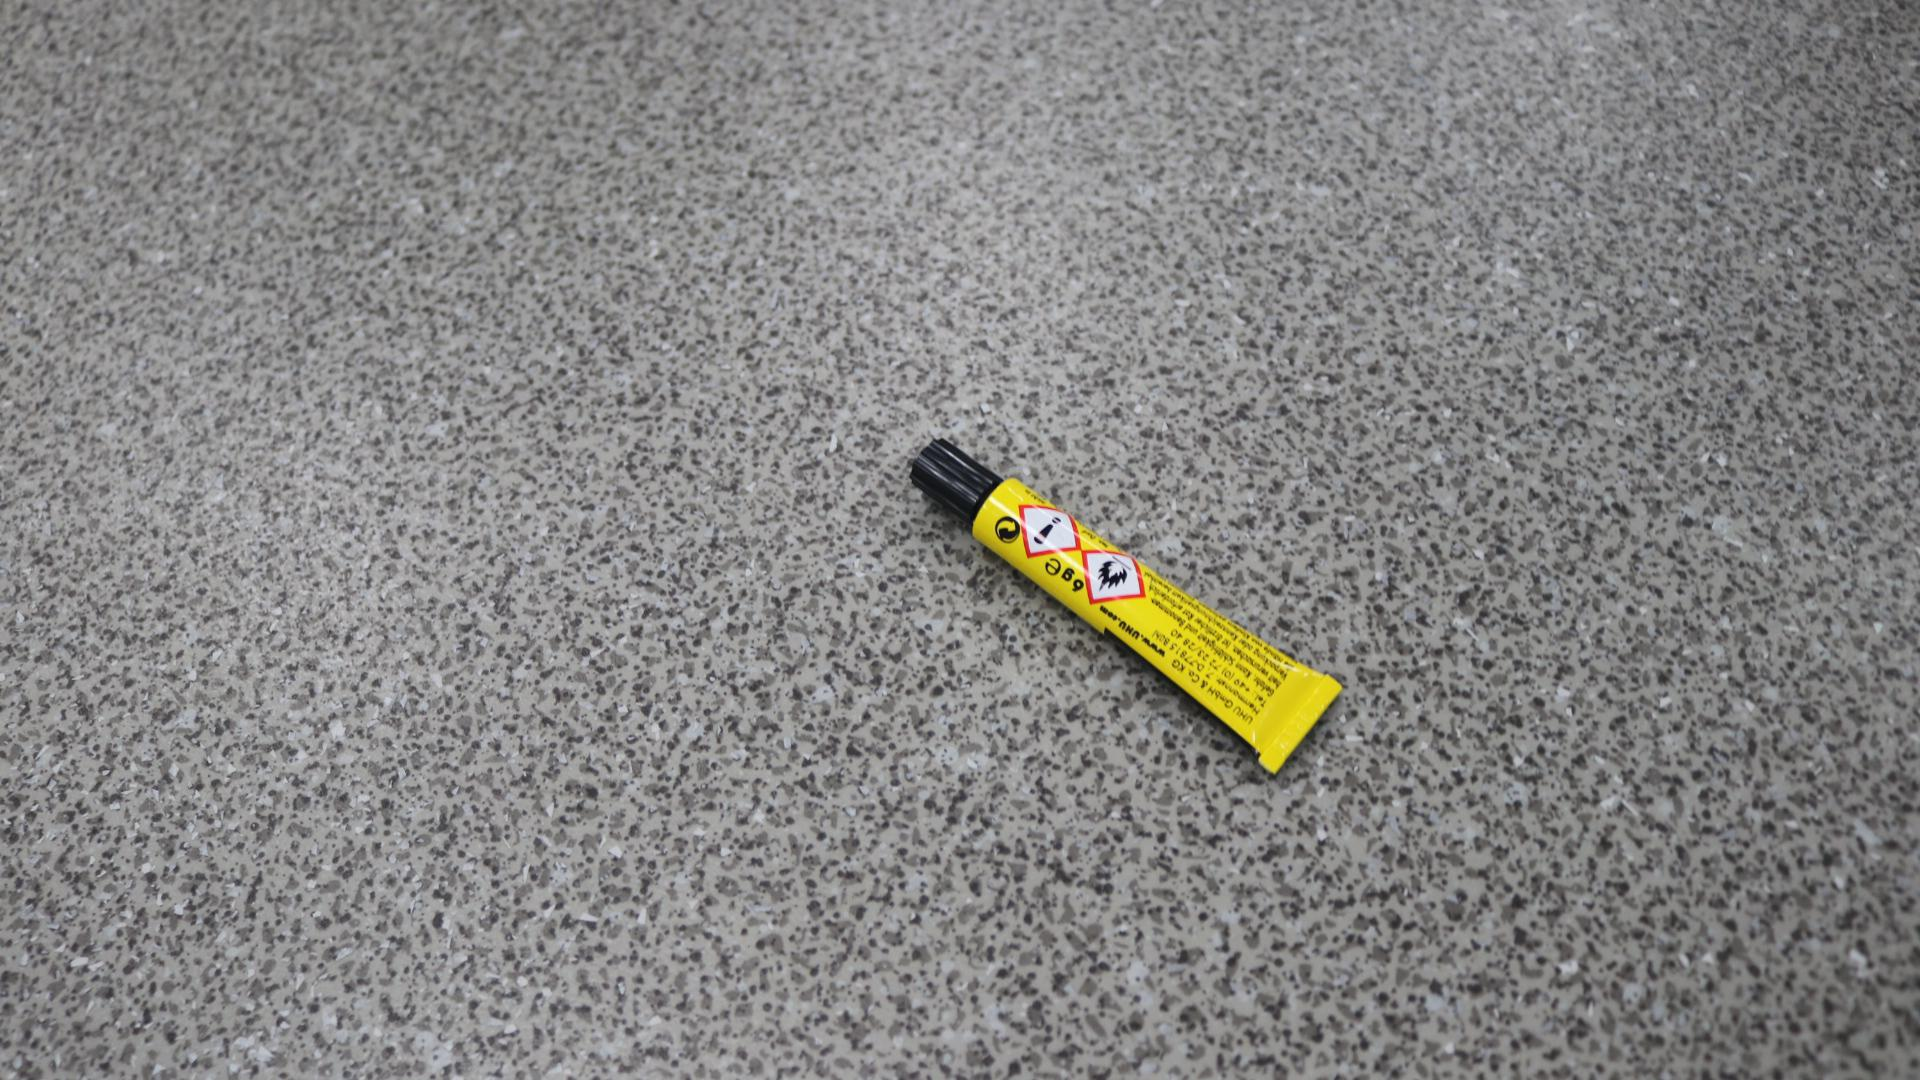Head: (949, 470, 962, 483)
Tail: (1294, 718, 1308, 731)
Tube: (909, 438, 1344, 776)
